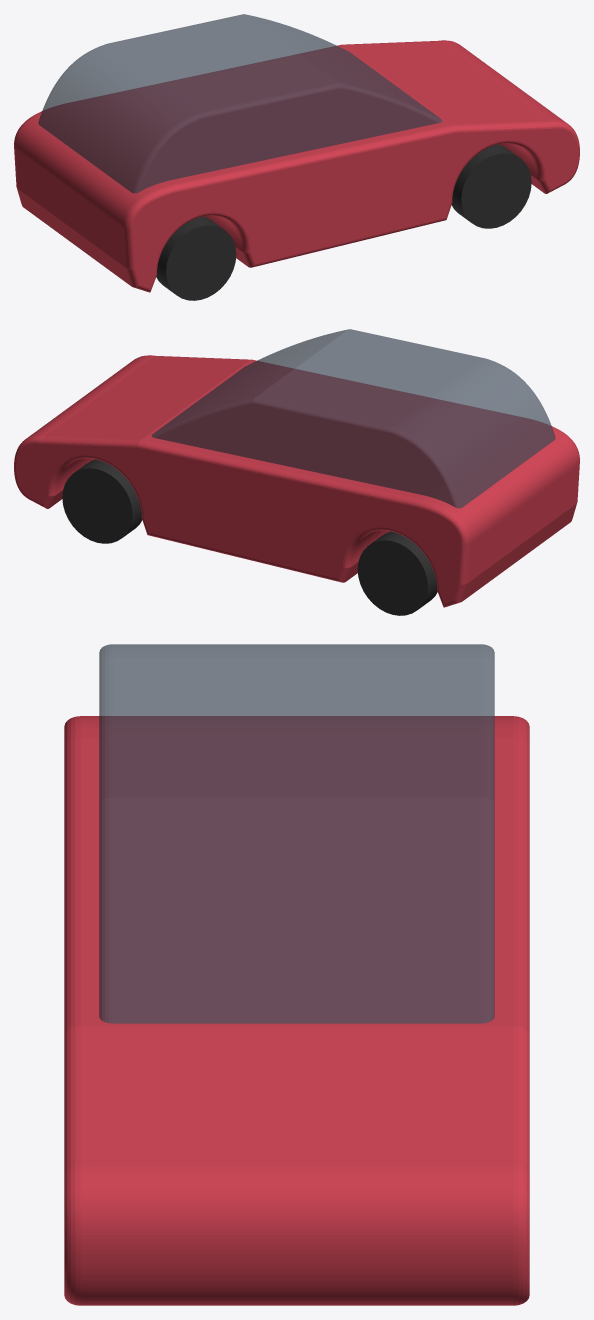
Rendered from exemplo-hatch.glb.
3 views of the same model, one above another, from view 1: azimuth 30°, elevation 25°; view 2: azimuth 150°, elevation 25°; view 3: azimuth 270°, elevation 25° (orthographic). The views are drawn at different scales.
Visible parts, largest first — view 1: shell, windows, wheel_fr_tire, wheel_rr_tire; view 2: shell, windows, wheel_fl_tire, wheel_rl_tire; view 3: shell, windows.
Boxes of the visible parts, x1,y1,x2,y2 form: shell: [14, 40, 579, 292]; windows: [38, 14, 442, 193]; wheel_fr_tire: [451, 144, 531, 228]; wheel_rr_tire: [156, 216, 236, 300]; shell: [14, 355, 579, 607]; windows: [151, 329, 555, 508]; wheel_fl_tire: [62, 459, 142, 543]; wheel_rl_tire: [357, 531, 437, 615]; shell: [64, 716, 529, 1305]; windows: [99, 644, 494, 1023].
Size of the model in its own units: 3.88 by 1.45 by 1.72.
